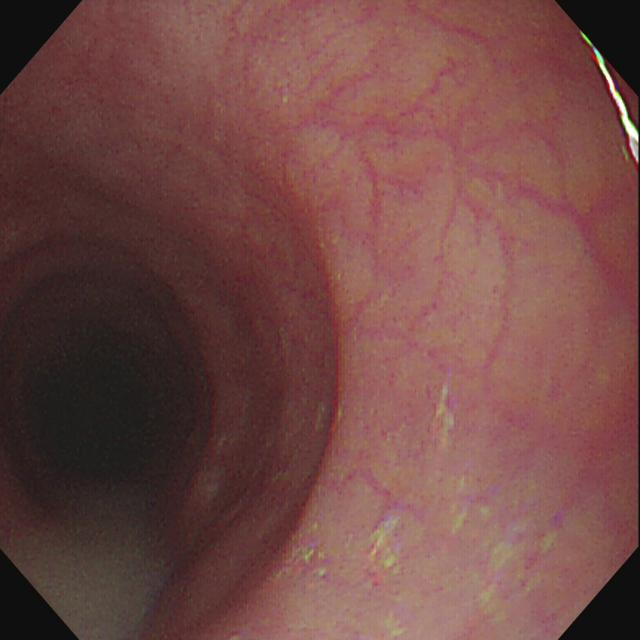E: (46, 366, 150, 479)
J: (276, 521, 328, 585), (368, 514, 405, 574), (434, 383, 459, 451)
U: (581, 32, 640, 166)
